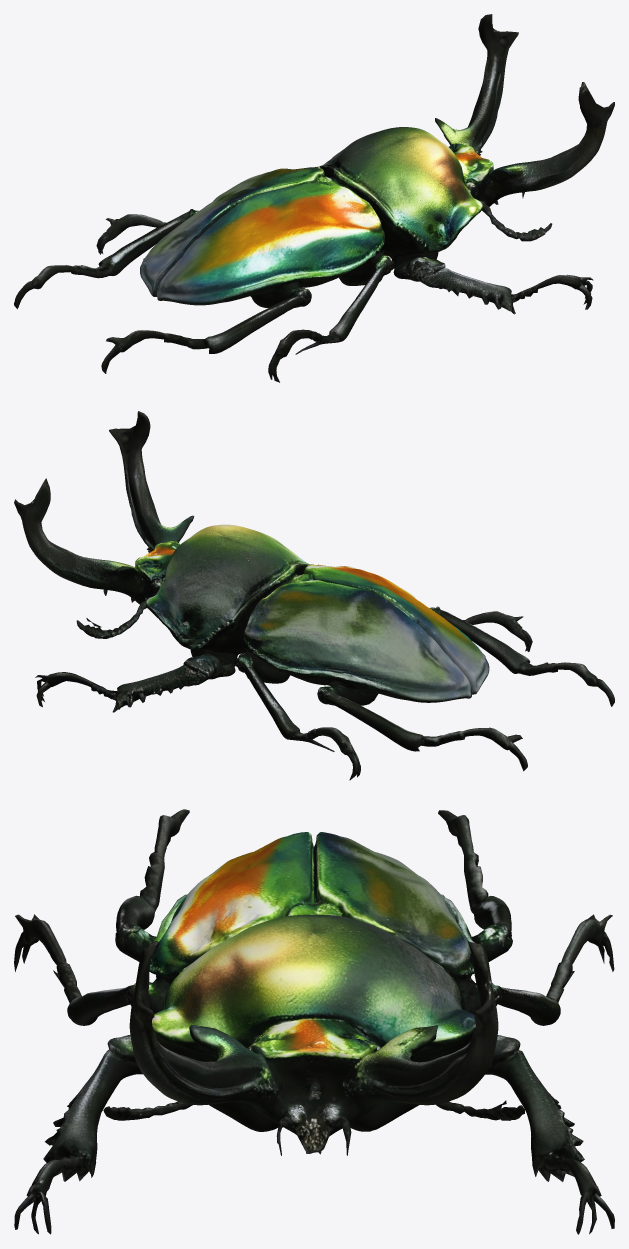
3 renders of one model, top to bottom at view 1: azimuth 30°, elevation 25°; view 2: azimuth 150°, elevation 25°; view 3: azimuth 270°, elevation 25°, orthographic. The views are drawn at different scales.
Parts seen in each view (by area): view 1: tripo_node_412807f8-4794-46cd-a5b8-7fb4489a2423; view 2: tripo_node_412807f8-4794-46cd-a5b8-7fb4489a2423; view 3: tripo_node_412807f8-4794-46cd-a5b8-7fb4489a2423.
Part boxes in pixels (x1,y1,x2,y2): tripo_node_412807f8-4794-46cd-a5b8-7fb4489a2423: (14, 14, 614, 382); tripo_node_412807f8-4794-46cd-a5b8-7fb4489a2423: (14, 411, 614, 780); tripo_node_412807f8-4794-46cd-a5b8-7fb4489a2423: (14, 809, 614, 1234).
Size of the model in its own units: 0.9804 by 0.3492 by 0.5907.
Materials: 1 (1 with a texture image).
